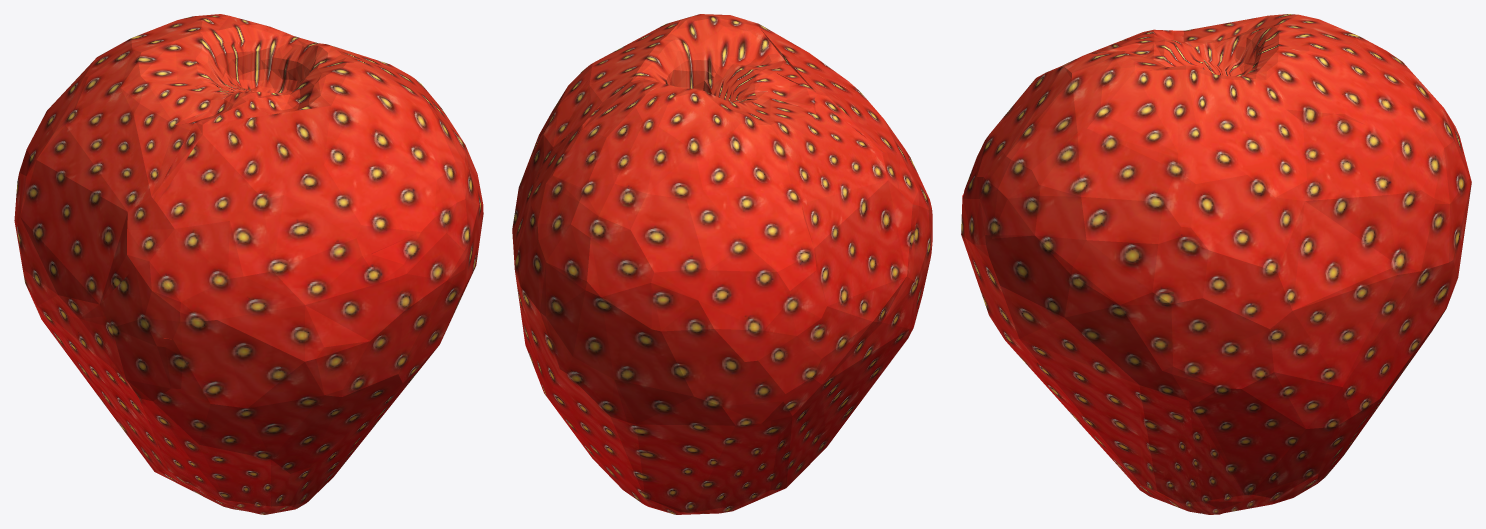
The picture shows the model from 3 angles, left to right: view 1: azimuth 30°, elevation 25°; view 2: azimuth 150°, elevation 25°; view 3: azimuth 270°, elevation 25°; orthographic projection. The views are drawn at different scales.
Visible parts, largest first — view 1: _001_Meshed; view 2: _001_Meshed; view 3: _001_Meshed.
Boxes of the visible parts, x1,y1,x2,y2 form: _001_Meshed: [14, 14, 483, 514]; _001_Meshed: [512, 14, 932, 514]; _001_Meshed: [961, 14, 1471, 514].
Size of the model in its own units: 0.0955 by 0.1113 by 0.1115.
1 material, 1 textured.
